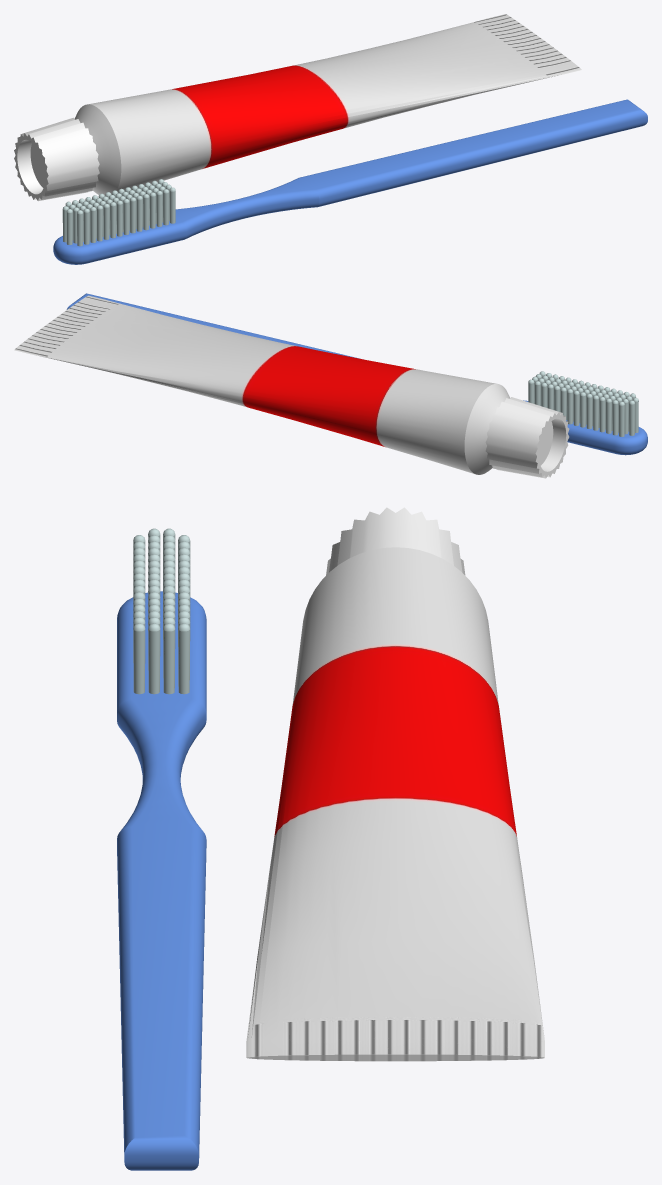
File: gustavorezende-toothpaste-3712.glb
3 renders of one model, top to bottom at view 1: azimuth 30°, elevation 25°; view 2: azimuth 150°, elevation 25°; view 3: azimuth 270°, elevation 25°, orthographic. The views are drawn at different scales.
Visible parts, largest first — view 1: Tube, Brush, Cap; view 2: Tube, Brush, Cap; view 3: Tube, Brush, Cap.
Boxes of the visible parts, bbox=[...] form: Tube: bbox=[74, 14, 581, 195]; Brush: bbox=[53, 99, 647, 264]; Cap: bbox=[14, 117, 99, 201]; Tube: bbox=[14, 295, 509, 474]; Brush: bbox=[66, 293, 647, 455]; Cap: bbox=[485, 397, 569, 478]; Tube: bbox=[246, 547, 544, 1061]; Brush: bbox=[117, 528, 206, 1170]; Cap: bbox=[326, 507, 465, 575].
Bounding box in the file's own units: 0.176 × 0.025 × 0.0573.
4 materials, 1 textured.
